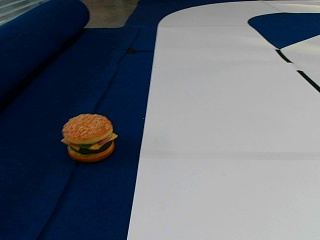burger: (61, 112, 116, 161)
